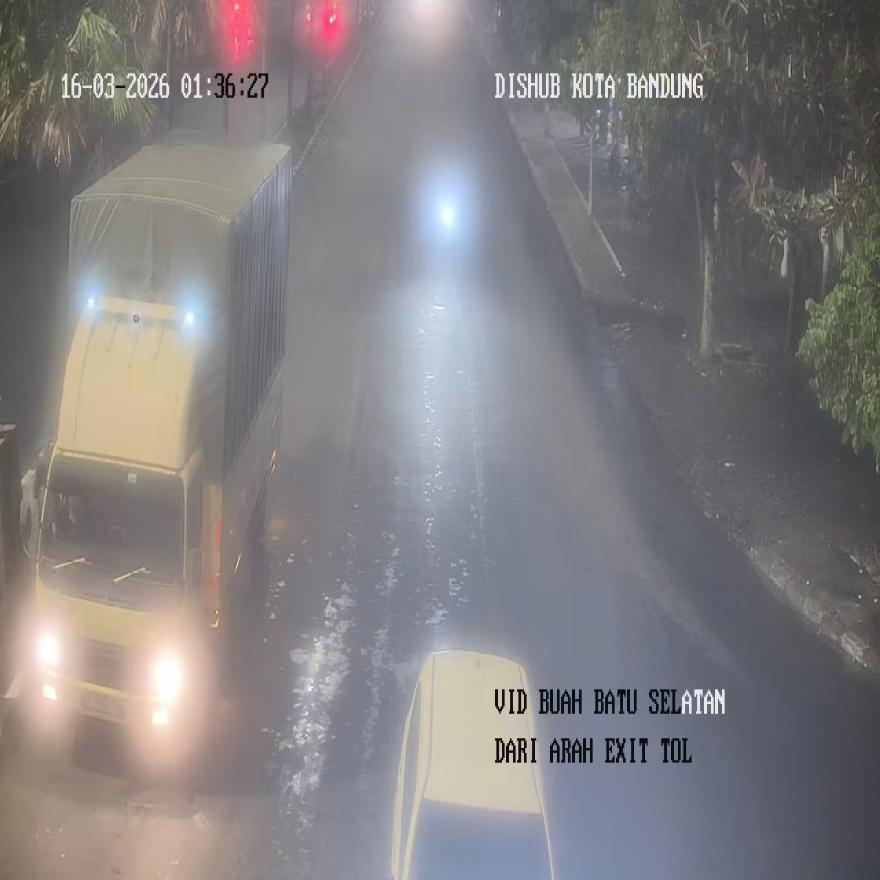Mobil: (389, 650, 556, 878)
Truk menengah: (6, 132, 290, 764)
